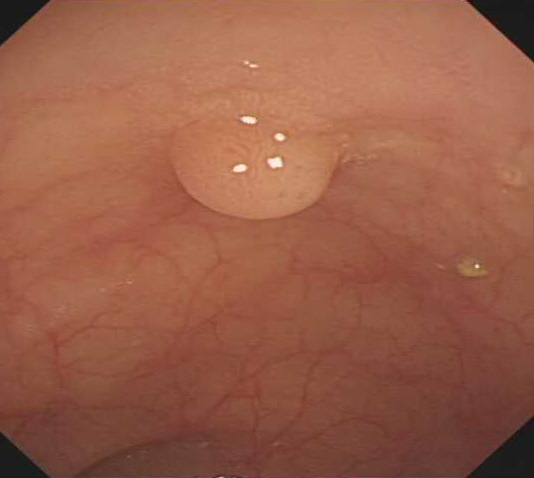adenoma: (166, 113, 346, 222)
